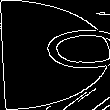O_W: (4, 33, 106, 77)
